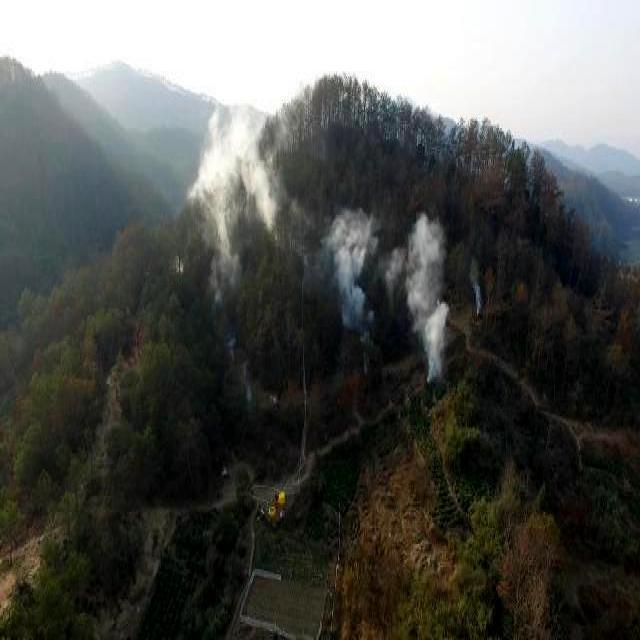Smoke: (178, 74, 294, 290), (399, 204, 453, 382), (328, 204, 381, 337)
